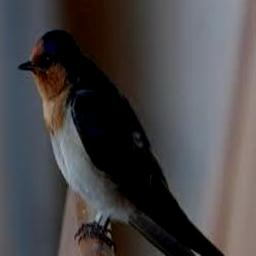Swallow: (18, 28, 252, 256)
